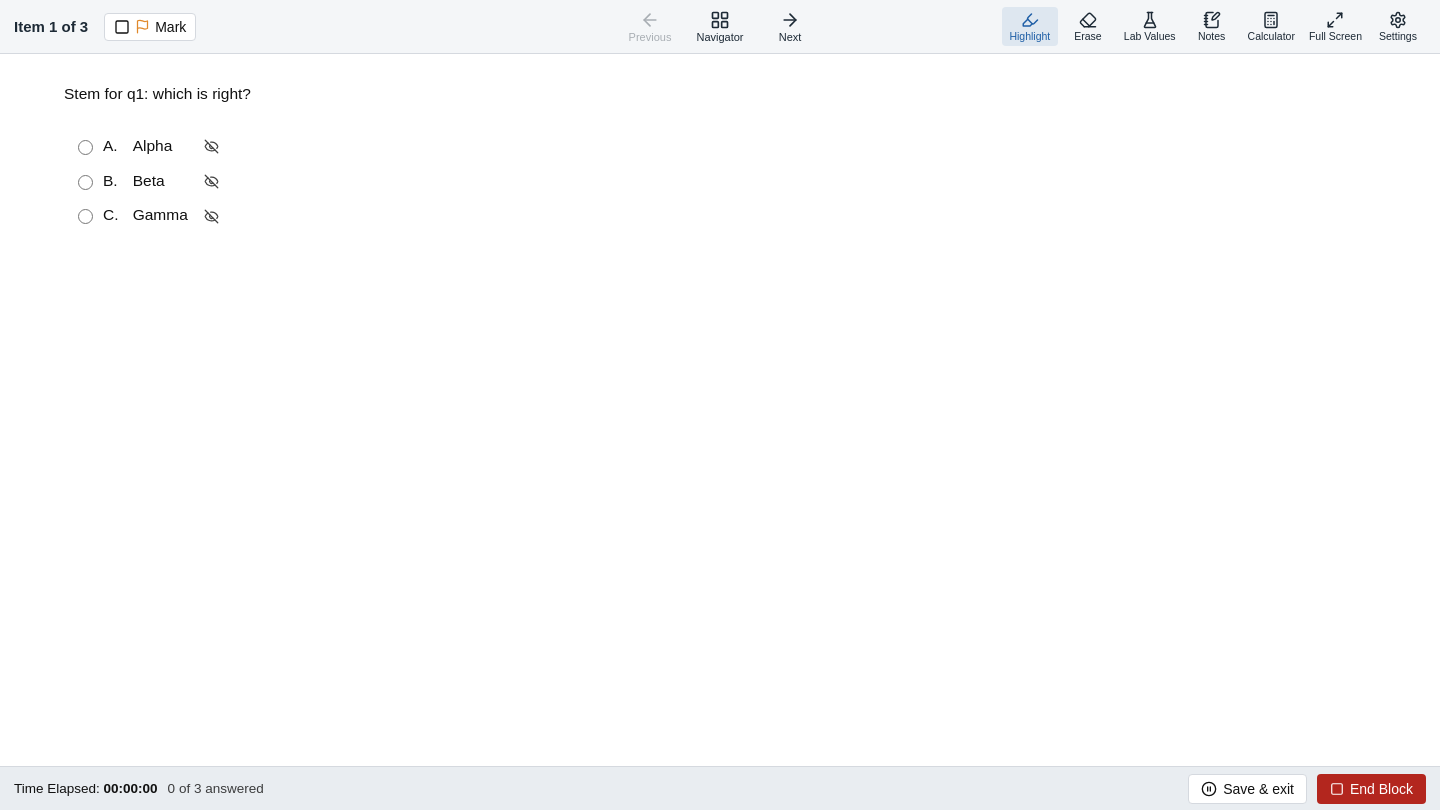
Scenario: ExamSimulator › searches the lab values panel
Click the button "Lab Values": (1150, 26) [1118, 7, 1182, 46]
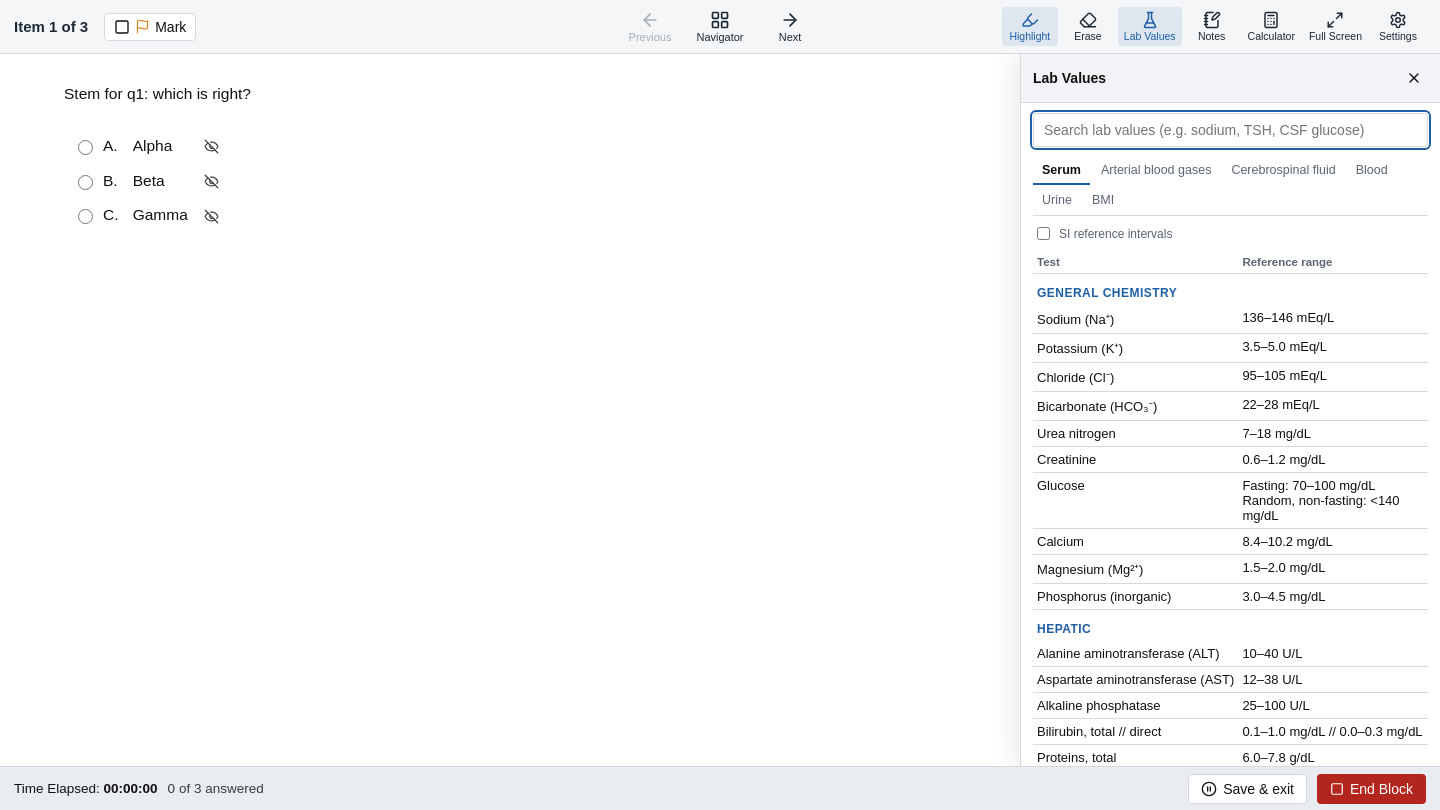
In the search field labelled "Search lab values": (1230, 130) [1033, 113, 1428, 147], type "tsh"
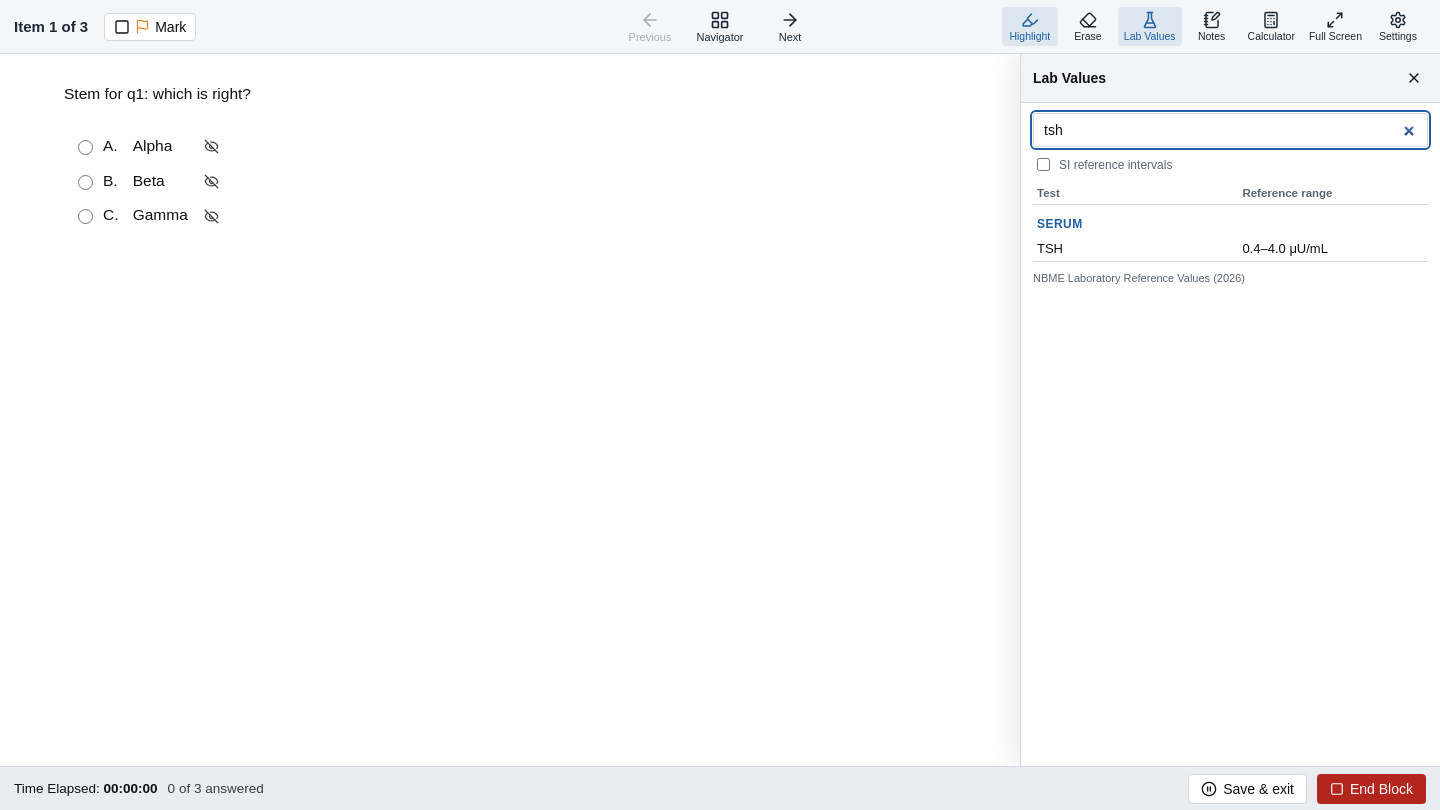
Result: the text "0.4–4.0 μU/mL" is shown at [1242, 241, 1328, 256]
